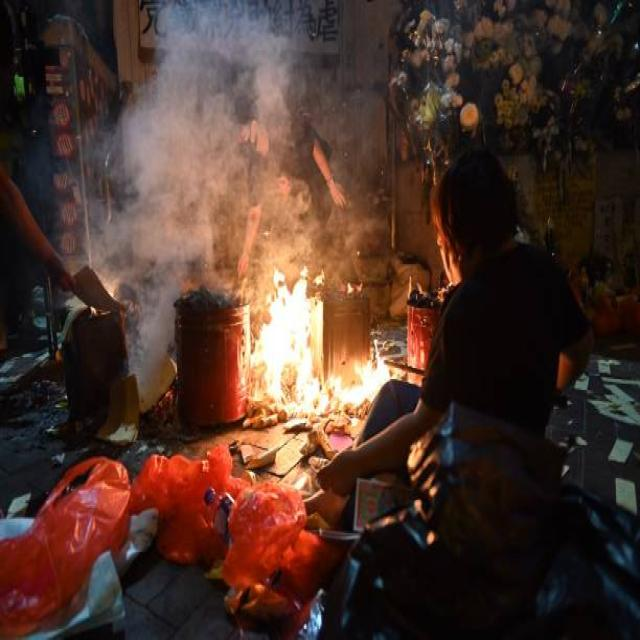fire: (242, 263, 326, 424), (327, 340, 393, 413)
